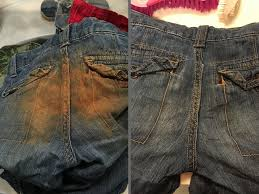earth: (25, 70, 64, 144), (71, 72, 118, 115)
